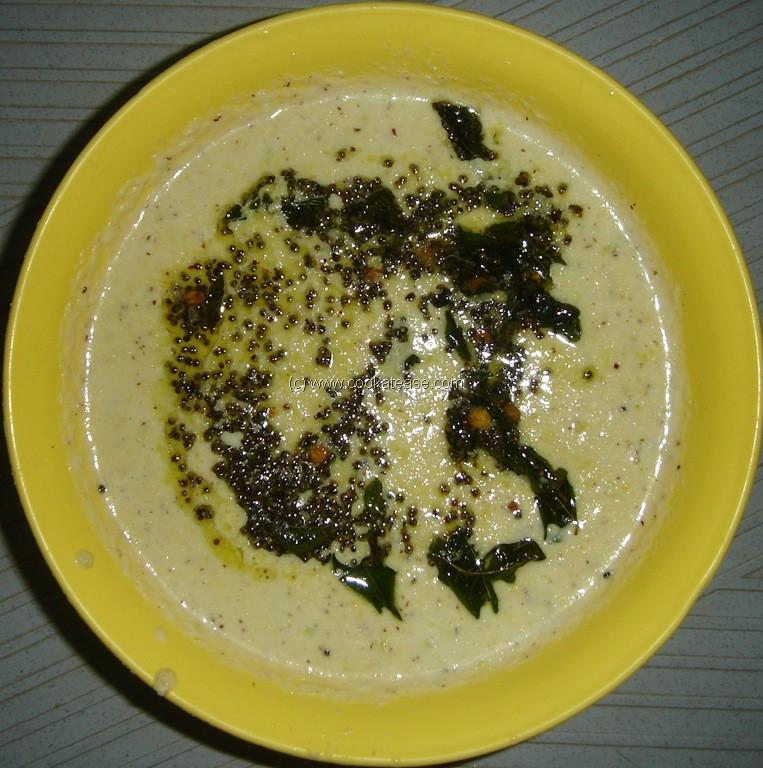CoconutChutney: (86, 80, 672, 673)
